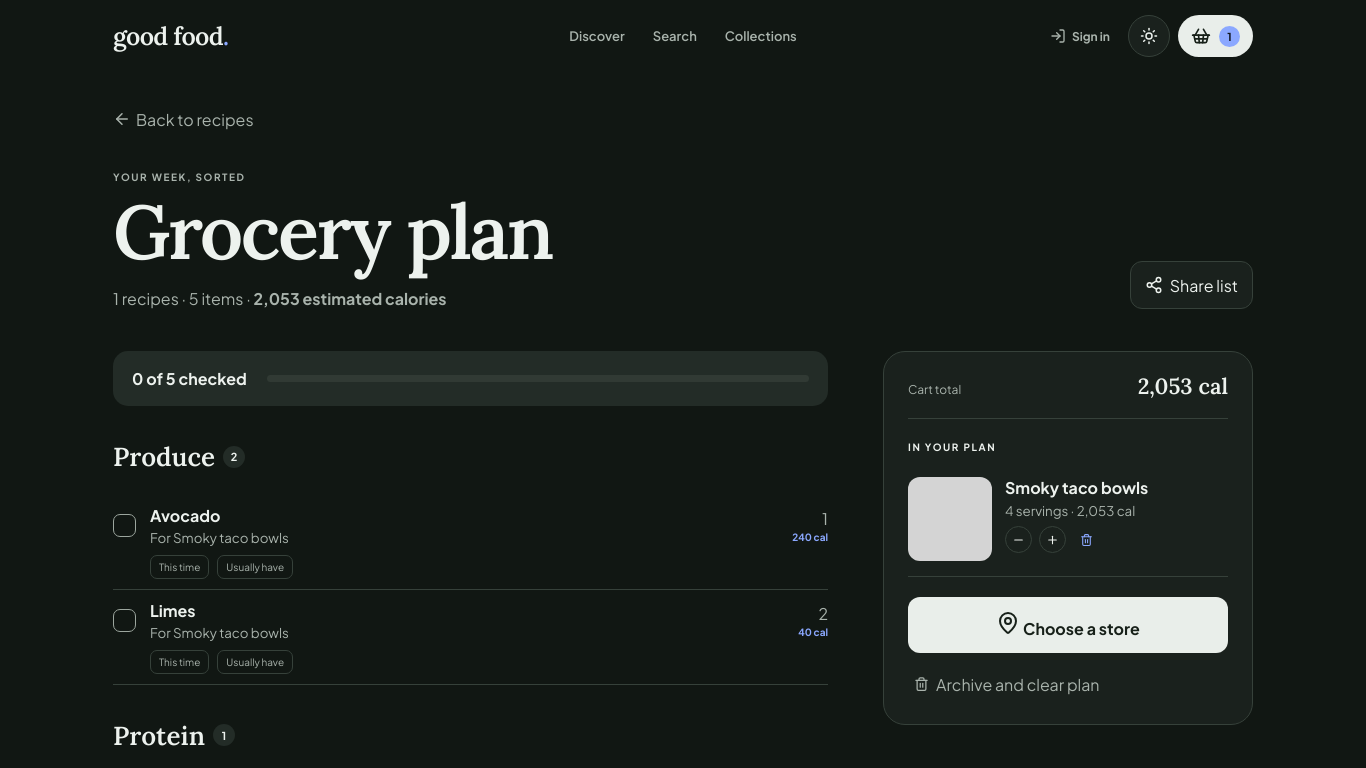
Test: grocery sharing › keeps the generic list usable while store lookup awaits the backend
Click the button "Choose a store": (1068, 625) x1=908 y1=597 x2=1228 y2=653
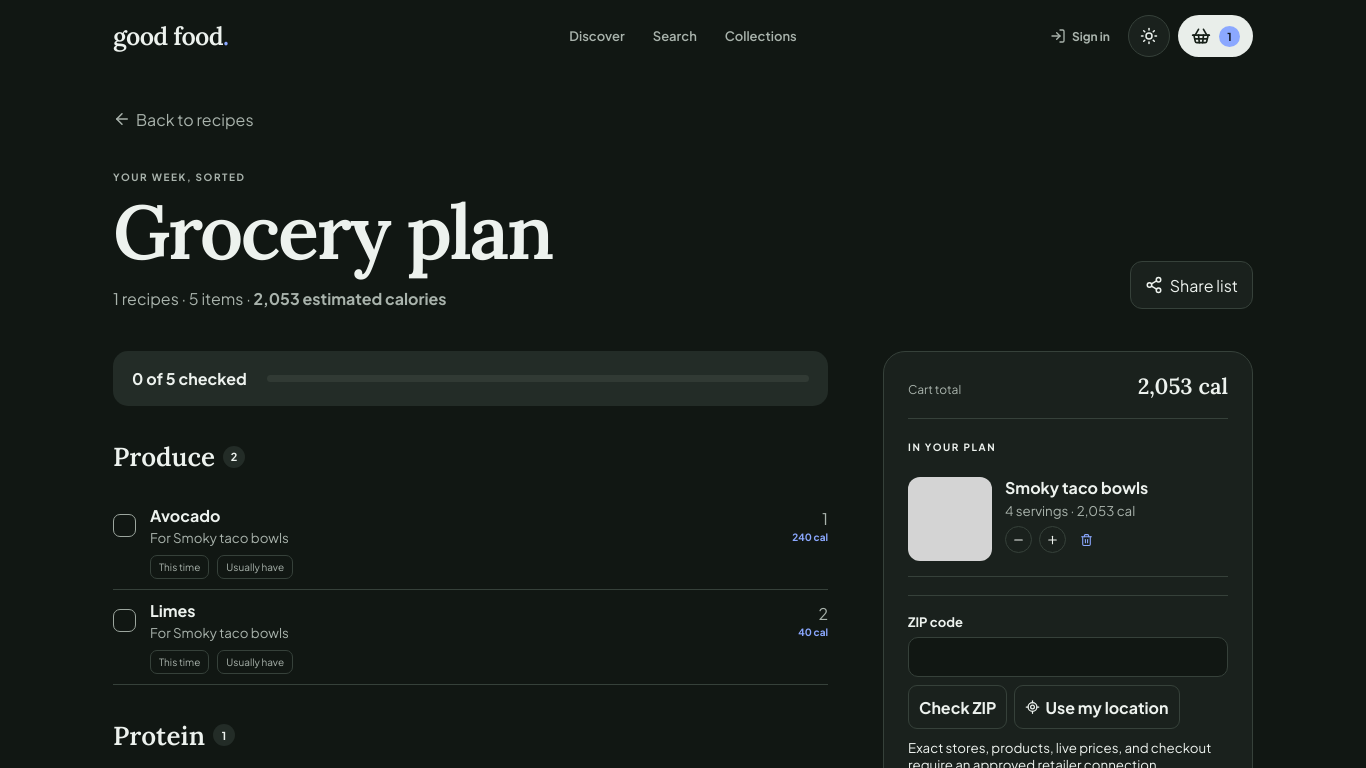
In the field labelled "ZIP code": (1068, 657) x1=908 y1=637 x2=1228 y2=677, type "123"
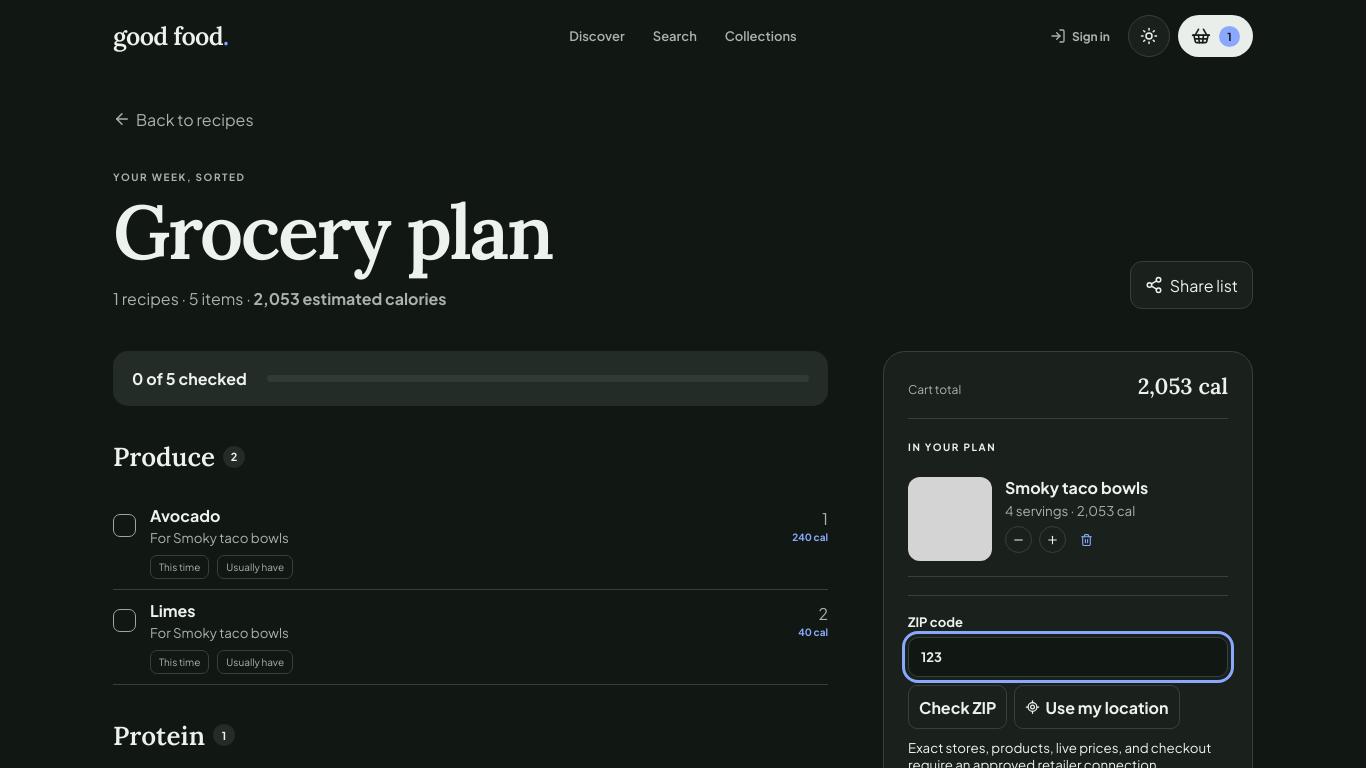
Click the button "Check ZIP": (958, 707) x1=908 y1=685 x2=1008 y2=729
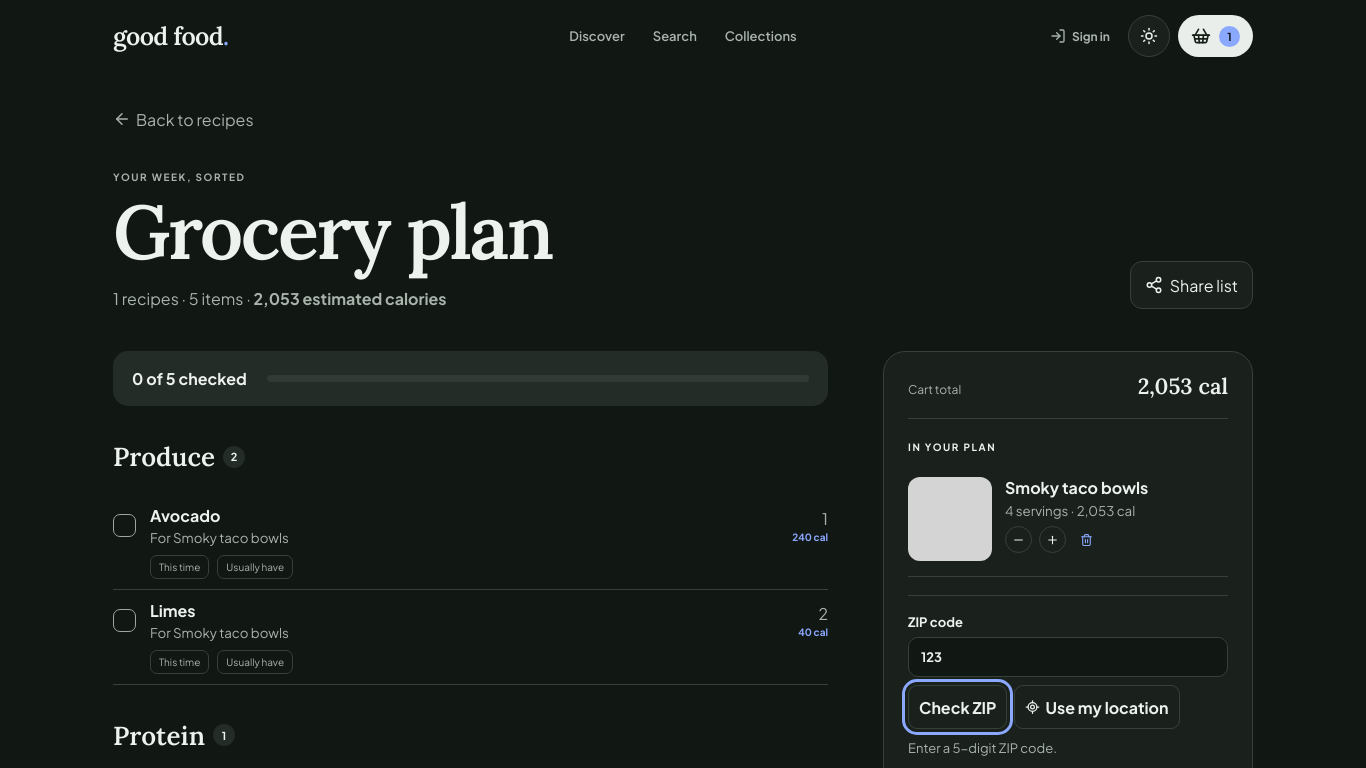
Expected: the text "Enter a 5-digit ZIP code." is shown, x1=908 y1=740 x2=1057 y2=756
Replace the text in the field labelled "ZIP code" with "10001": (1068, 657) x1=908 y1=637 x2=1228 y2=677
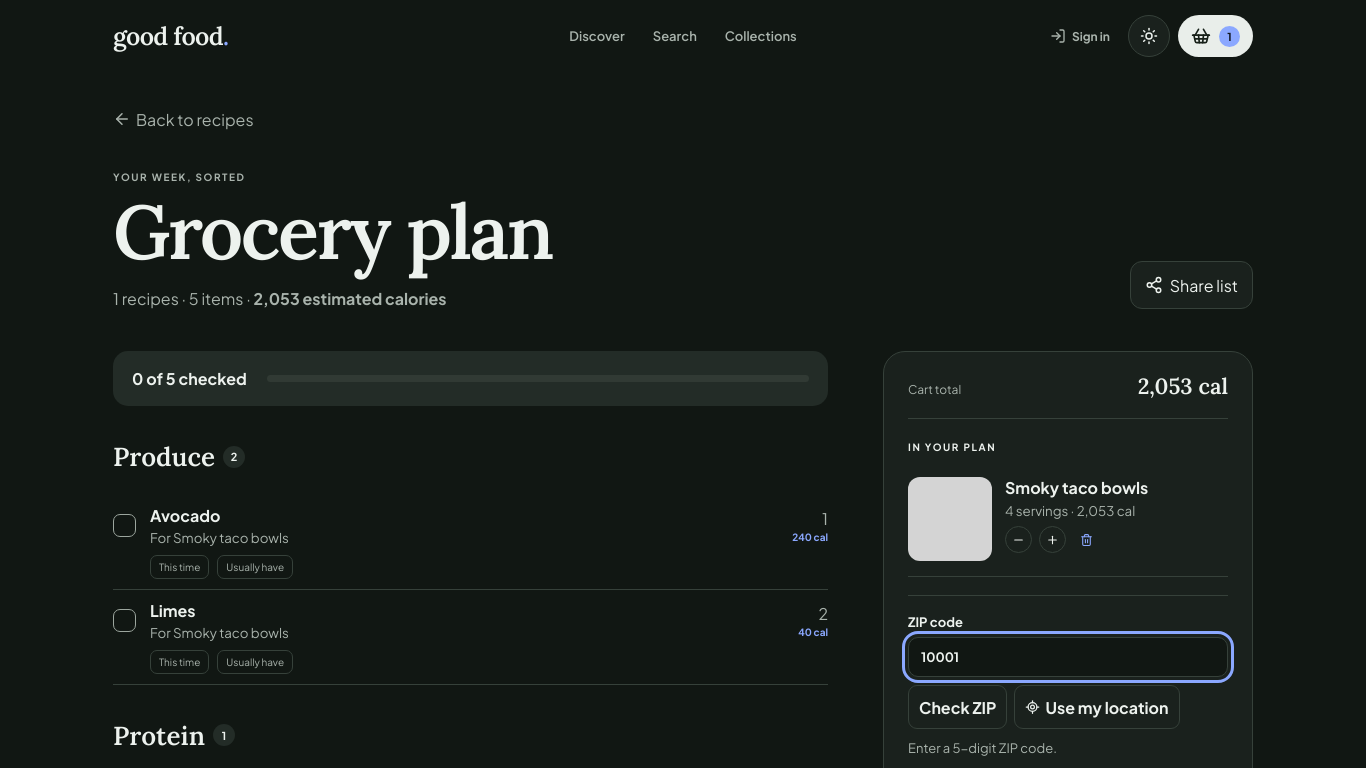
Click the button "Check ZIP": (958, 707) x1=908 y1=685 x2=1008 y2=729
(page scrolled)
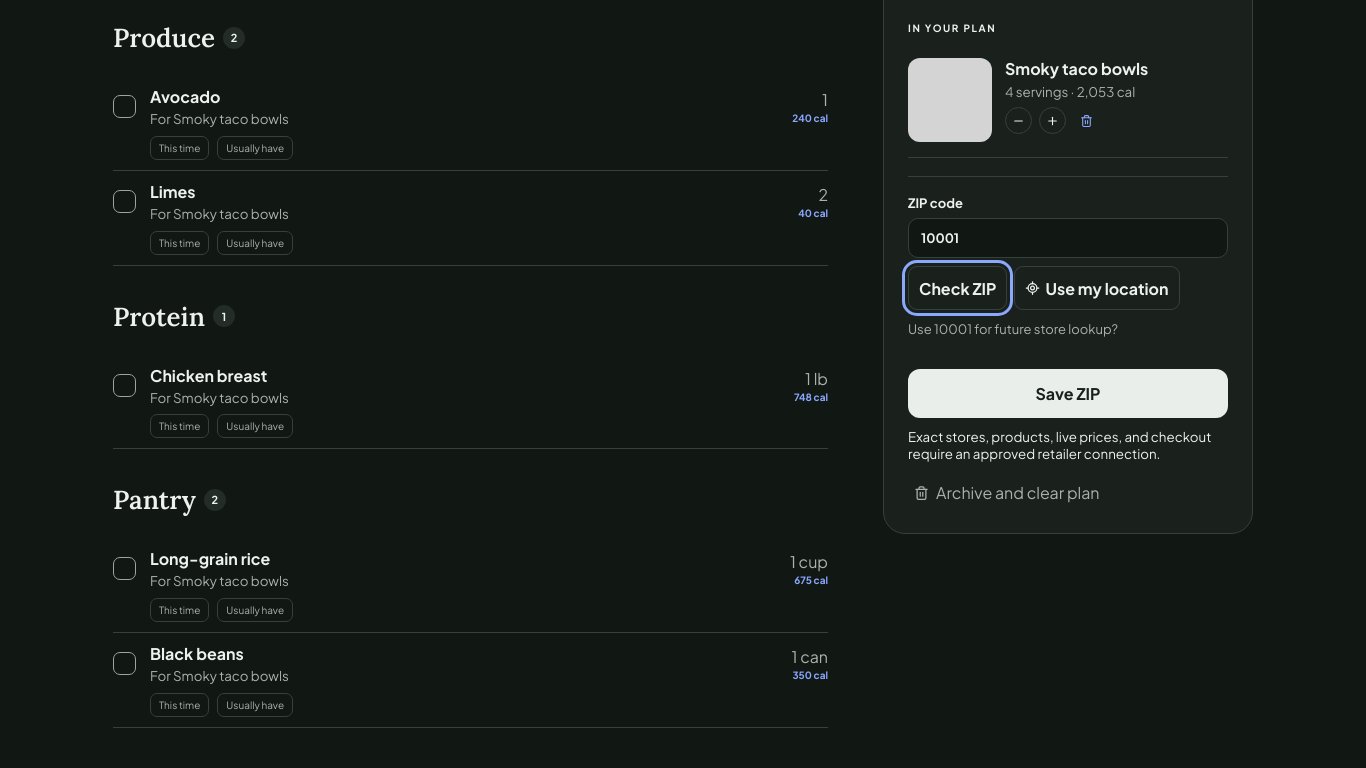
Click the button "Save ZIP": (1068, 393) x1=908 y1=369 x2=1228 y2=418
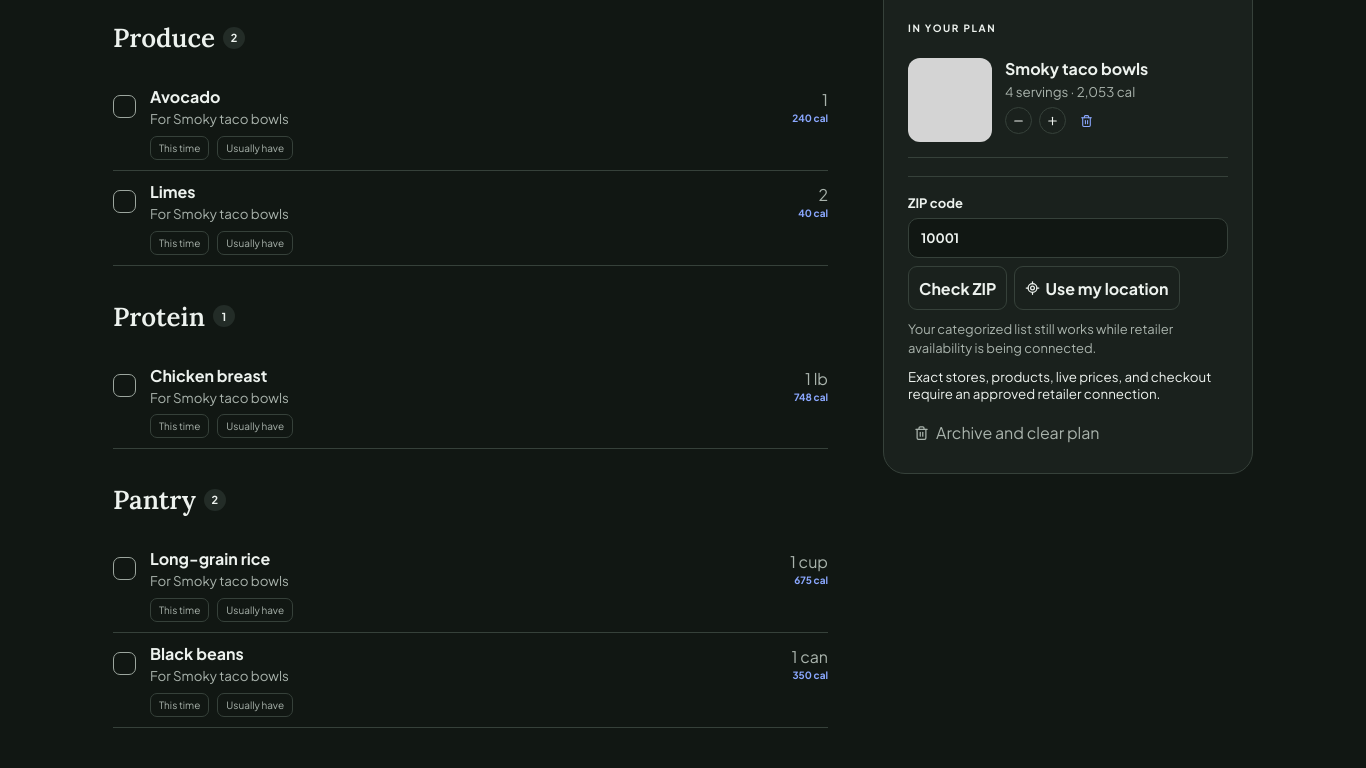
Expected: the text "Your categorized list still works while retailer availability is being connected." is shown, x1=908 y1=321 x2=1173 y2=356
